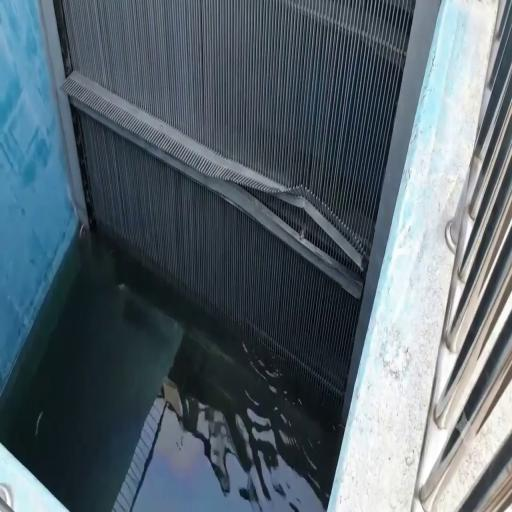rake_broken: (208, 160, 288, 210), (331, 202, 373, 274), (288, 176, 336, 224)
